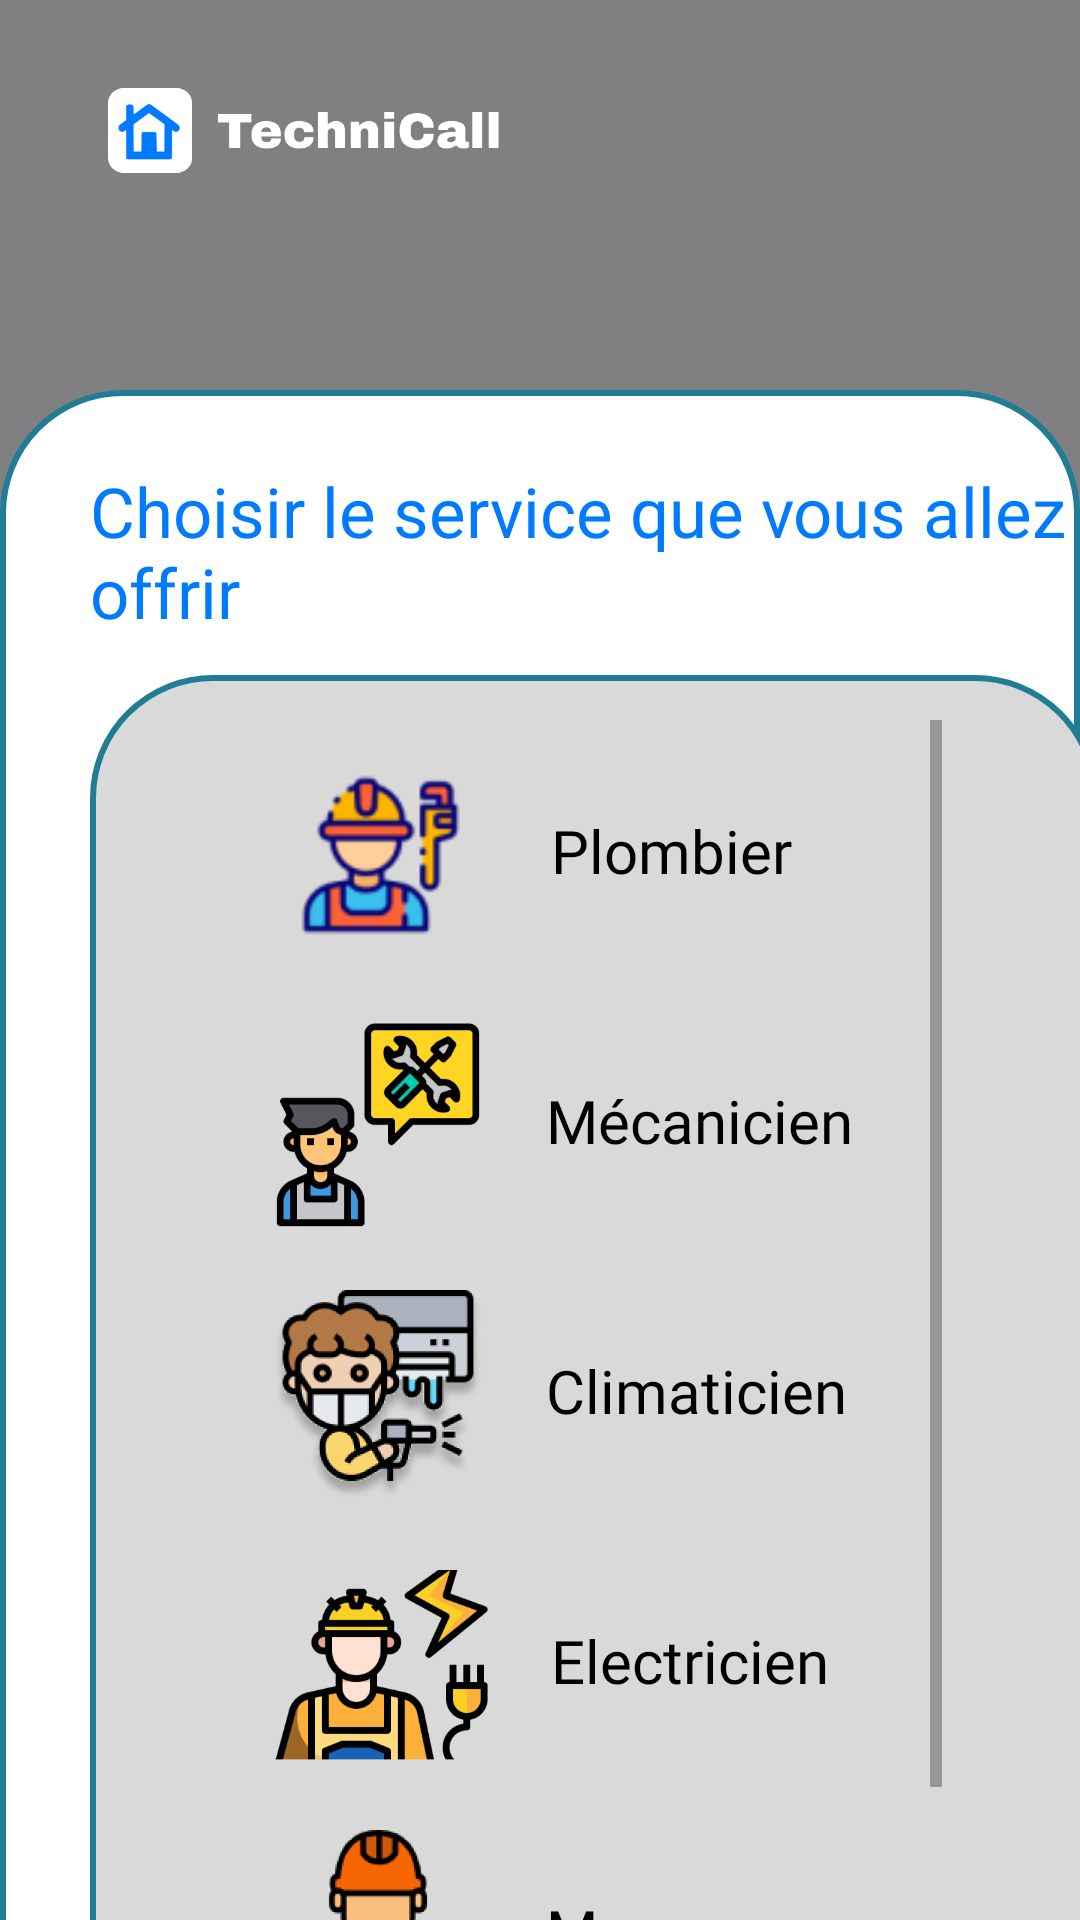

Named icons in this screenshot (1080px×1920px) and their centers, (x,y):
mecancien: (378,1125)
